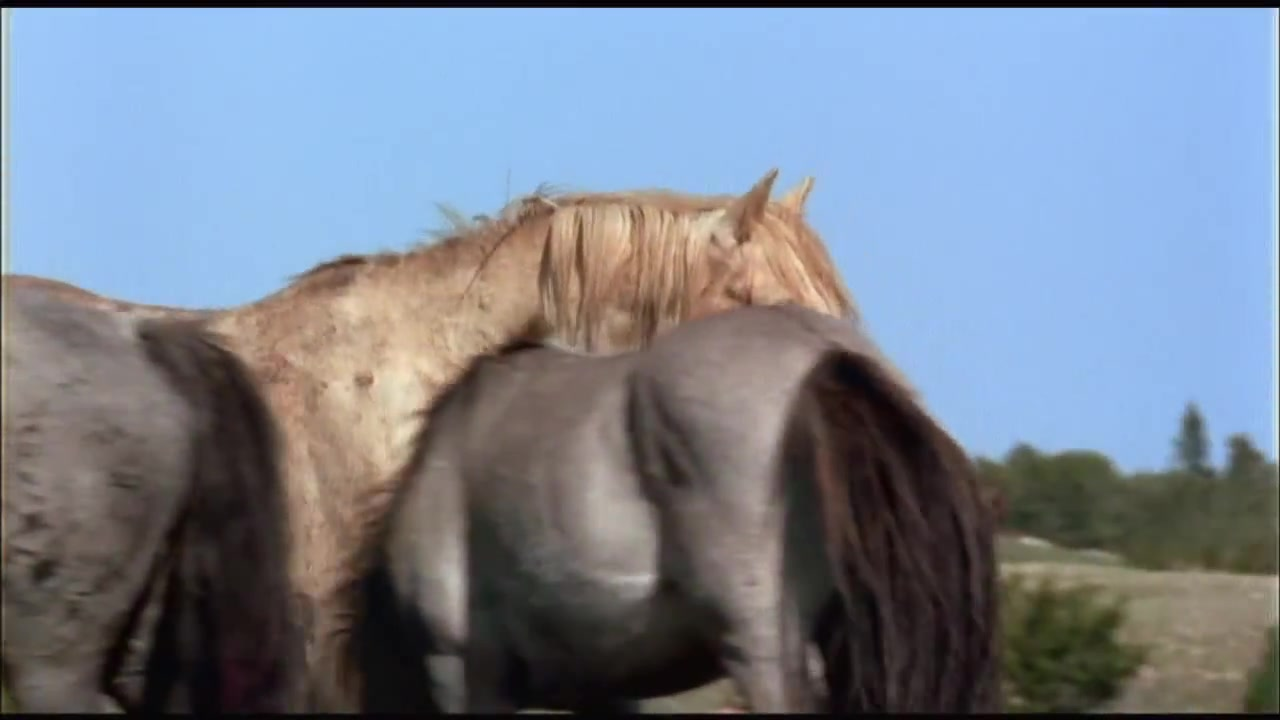horse: (349, 303, 1002, 719)
